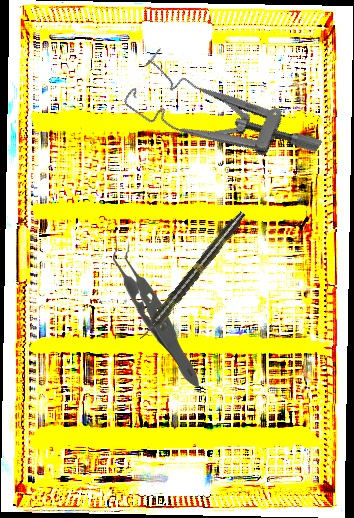Handpiece: (135, 208, 249, 344)
Speculum: (119, 33, 325, 209)
Tissue Forceps: (111, 231, 203, 388)
